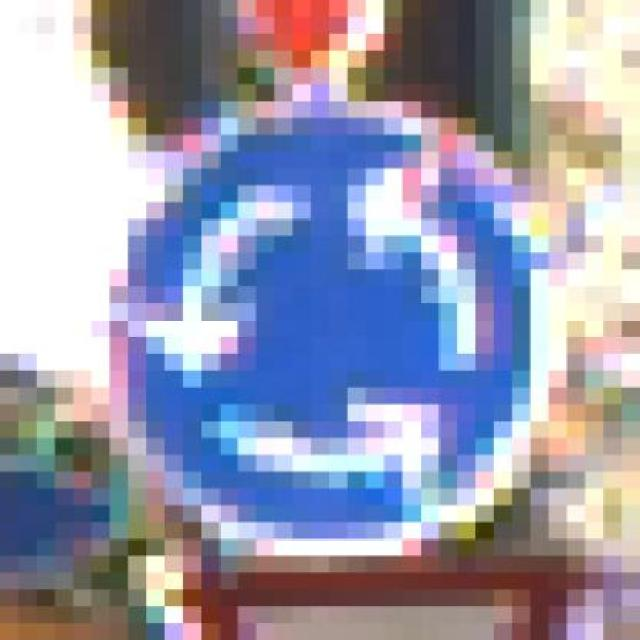Round-About: (19, 101, 622, 590)
